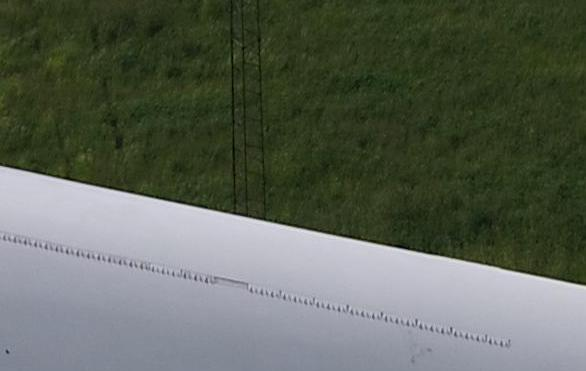damage: (407, 343, 435, 370)
